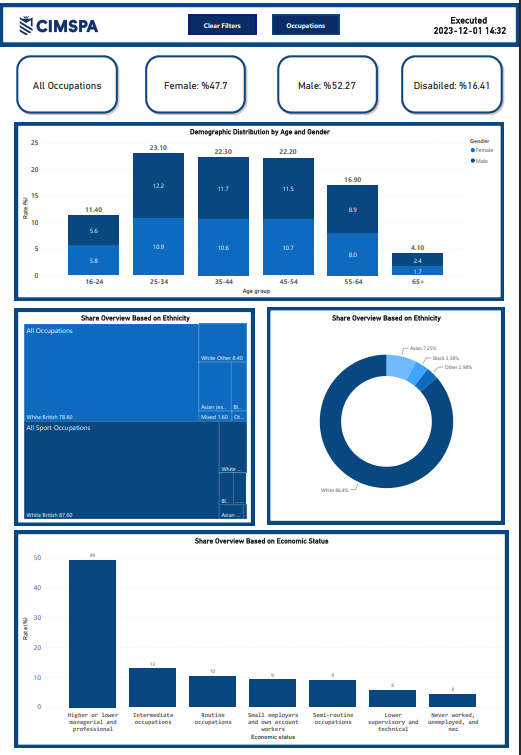

The dashboard page shown, as its layout file describes it:
{"tool":"powerbi","page":{"name":"Demographics","canvas":[1248,1800],"ordinal":1},"visuals":[{"type":"shape","box":[641.7,728.3,568.3,520],"z":0},{"type":"shape","box":[0,0,1248,104],"z":1000},{"type":"image","box":[23.4,23.4,238.5,58.5],"z":2000},{"type":"actionButton","box":[653.1,28.9,161.7,48.3],"z":3000},{"type":"actionButton","box":[453.1,28.9,161.7,48.3],"z":4000},{"type":"shape","box":[661.2,122.1,250,145.7],"z":5000},{"type":"shape","box":[346.9,122.1,250,145.7],"z":6000},{"type":"shape","box":[38.3,122.1,250,145.7],"z":7000},{"type":"shape","box":[959.8,122.1,250,145.7],"z":8000},{"type":"card","fields":{"Values":["# Measures.Executed"]},"box":[1018.6,11.4,220,81.4],"z":9000},{"type":"shape","box":[37.4,286.8,1171.7,426.7],"z":10000},{"type":"card","fields":{"Values":["# Measures.OccupationNameSelected"]},"box":[49.8,145.4,227.1,102.9],"z":11000},{"type":"columnChart","title":"Demographic Distribution by Age and Gender","fields":{"Category":["Gender&Age.Age group"],"Y":["Sum(Gender&Age.Share)"],"Series":["Gender&Age.Gender"]},"box":[49.1,298.5,1150,403.3],"z":12000},{"type":"card","fields":{"Values":["# Measures.FemalePercentage"]},"box":[358.3,145.4,227.1,102.9],"z":13000},{"type":"card","fields":{"Values":["# Measures.MalePercentage"]},"box":[672.6,145.4,227.1,102.9],"z":14000},{"type":"card","fields":{"Values":["# Measures.DisabilityPercentage"]},"box":[971.2,144,227.1,102.9],"z":15000},{"type":"shape","box":[38.3,1263.3,1181.7,520],"z":19000},{"type":"shape","box":[38.3,731.7,573.3,520],"z":20000},{"type":"donutChart","title":"Share Overview Based on Ethnicity","fields":{"Category":["Ethnicity 2.Ethnicity"],"Y":["Sum(Ethnicity 2.Share)"]},"box":[653.3,743.3,548.3,496.7],"z":21000},{"type":"clusteredColumnChart","title":"Share Overview Based on Economic Status","fields":{"Category":["EconomicStatus.Economic status"],"Y":["Sum(EconomicStatus.Share)"]},"box":[50,1277.1,1158.6,491.4],"z":22000},{"type":"treemap","title":"Share Overview Based on Ethnicity","fields":{"Group":["Occupations.Name"],"Values":["Sum(Ethnicity.Share)"],"Details":["Ethnicity.Ethnicity"]},"box":[55,743.3,541.7,496.7],"z":23000}]}

Visuals, with their boxes in screenshot pixels (x1, y1, x2, y2), scaled from the page's 1248x1800 canvas onto the 521x755 screenshot:
shape: <bbox>268, 305, 505, 524</bbox>
shape: <bbox>0, 0, 520, 44</bbox>
image: <bbox>10, 10, 109, 34</bbox>
actionButton: <bbox>273, 12, 340, 32</bbox>
actionButton: <bbox>189, 12, 257, 32</bbox>
shape: <bbox>276, 51, 380, 112</bbox>
shape: <bbox>145, 51, 249, 112</bbox>
shape: <bbox>16, 51, 120, 112</bbox>
shape: <bbox>401, 51, 505, 112</bbox>
card - # Measures.Executed: <bbox>425, 5, 517, 39</bbox>
shape: <bbox>16, 120, 505, 299</bbox>
card - # Measures.OccupationNameSelected: <bbox>21, 61, 116, 104</bbox>
"Demographic Distribution by Age and Gender" columnChart: <bbox>20, 125, 501, 294</bbox>
card - # Measures.FemalePercentage: <bbox>150, 61, 244, 104</bbox>
card - # Measures.MalePercentage: <bbox>281, 61, 376, 104</bbox>
card - # Measures.DisabilityPercentage: <bbox>405, 60, 500, 104</bbox>
shape: <bbox>16, 530, 509, 748</bbox>
shape: <bbox>16, 307, 255, 525</bbox>
"Share Overview Based on Ethnicity" donutChart: <bbox>273, 312, 502, 520</bbox>
"Share Overview Based on Economic Status" clusteredColumnChart: <bbox>21, 536, 505, 742</bbox>
"Share Overview Based on Ethnicity" treemap: <bbox>23, 312, 249, 520</bbox>
